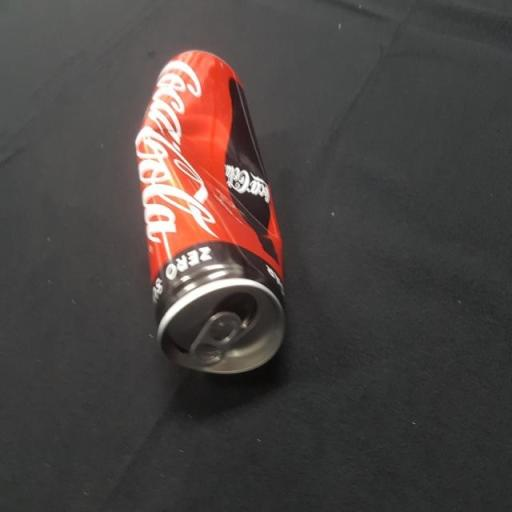metal: (124, 27, 306, 413)
